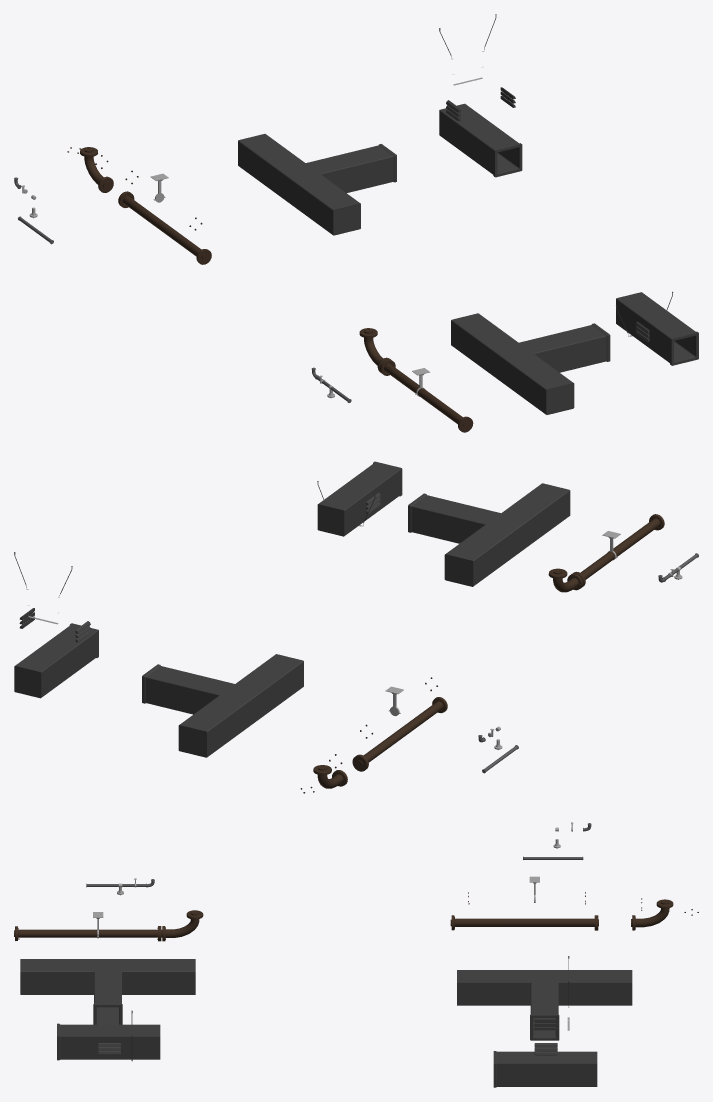
File: Ducts.fbx
3 renders of one model, top to bottom at view 1: azimuth 30°, elevation 25°; view 2: azimuth 150°, elevation 25°; view 3: azimuth 270°, elevation 25°, orthographic. The views are drawn at different scales.
Visible parts, largest first — view 1: BaseDutoAr1 (×2), BaseDutoAr (×2), pCylinder49 (×2); view 2: BaseDutoAr1 (×2), BaseDutoAr (×2), pCylinder49 (×2), pCylinder48 (×2); view 3: BaseDutoAr1 (×2), BaseDutoAr (×2), pCylinder49 (×2), pCylinder48 (×2).
Boxes of the visible parts, <box> form: BaseDutoAr1 (×2): <box>238,134,610,414</box>; BaseDutoAr (×2): <box>439,103,698,365</box>; pCylinder49 (×2): <box>118,191,473,432</box>; BaseDutoAr1 (×2): <box>142,483,570,757</box>; BaseDutoAr (×2): <box>14,461,402,698</box>; pCylinder49 (×2): <box>352,514,664,771</box>; pCylinder48 (×2): <box>313,568,583,788</box>; BaseDutoAr1 (×2): <box>20,959,632,1040</box>; BaseDutoAr (×2): <box>57,1023,597,1087</box>; pCylinder49 (×2): <box>14,915,598,941</box>; pCylinder48 (×2): <box>161,899,673,941</box>.
Bounding box in the file's own units: 70.28 × 17.41 × 95.54.
